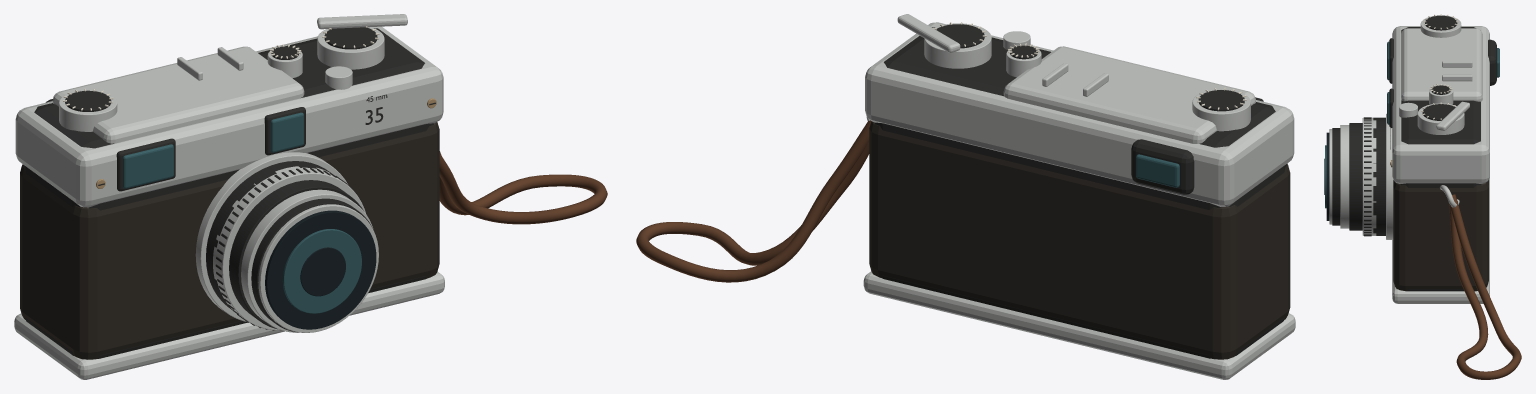
File: rangefinder.glb
3 views of the same model, side by side, from view 1: azimuth 30°, elevation 25°; view 2: azimuth 150°, elevation 25°; view 3: azimuth 270°, elevation 25° (orthographic). The views are drawn at different scales.
Visible parts, largest first — view 1: Satin nickel top casting, Grained charcoal leatherette, Graphite in engraved recesses, Deep optical barrel, Blue coated front optical glass, Chestnut leather wrist loop; view 2: Grained charcoal leatherette, Satin nickel top casting, Graphite in engraved recesses, Chestnut leather wrist loop, Blue coated front optical glass; view 3: Satin nickel top casting, Graphite in engraved recesses, Grained charcoal leatherette, Chestnut leather wrist loop, Blue coated front optical glass, Deep optical barrel, Ivory engraved shutter scale.
Boxes of the visible parts, x1,y1,x2,y2 form: Satin nickel top casting: (14, 14, 444, 379); Grained charcoal leatherette: (20, 122, 439, 359); Graphite in engraved recesses: (23, 27, 435, 358); Deep optical barrel: (265, 210, 376, 329); Blue coated front optical glass: (123, 112, 361, 313); Chestnut leather wrist loop: (439, 151, 607, 224); Grained charcoal leatherette: (869, 121, 1290, 359); Satin nickel top casting: (863, 14, 1295, 379); Graphite in engraved recesses: (875, 24, 1286, 358); Chestnut leather wrist loop: (636, 120, 871, 282); Blue coated front optical glass: (1136, 154, 1179, 187); Satin nickel top casting: (1329, 15, 1489, 303); Graphite in engraved recesses: (1332, 15, 1496, 291); Grained charcoal leatherette: (1393, 180, 1488, 291); Chestnut leather wrist loop: (1449, 194, 1521, 379); Blue coated front optical glass: (1325, 41, 1499, 208); Deep optical barrel: (1324, 132, 1329, 220); Ivory engraved shutter scale: (1421, 14, 1458, 120).
Size of the model in its own units: 0.2327 by 0.0987 by 0.097.
